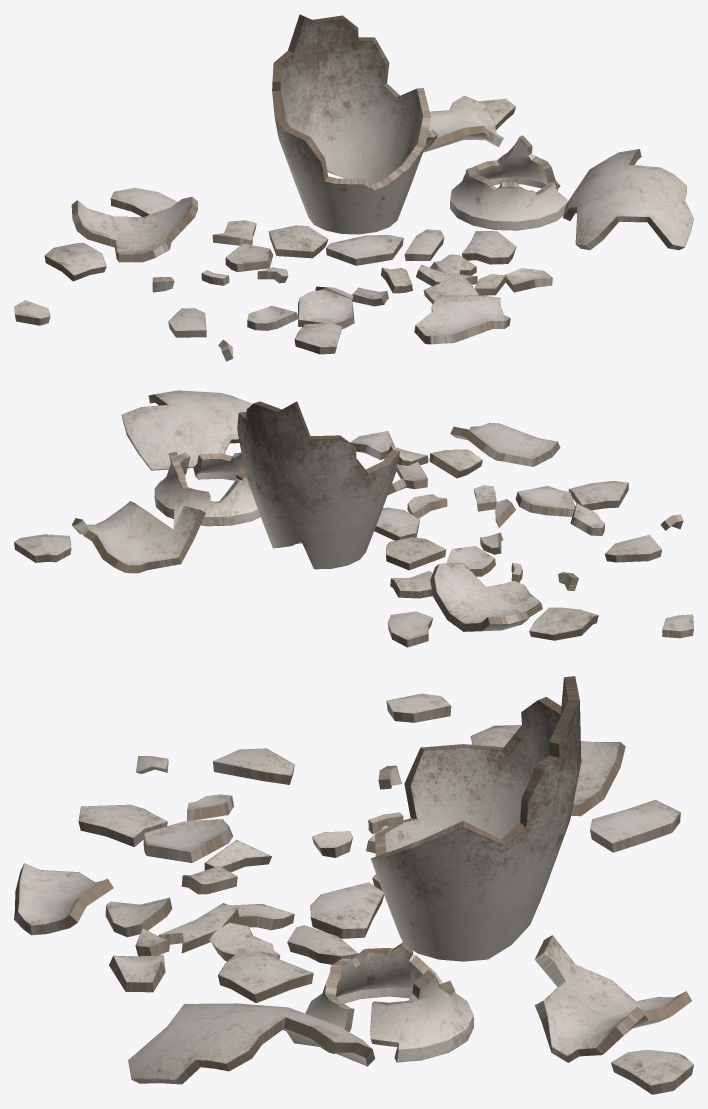
3 renders of one model, top to bottom at view 1: azimuth 30°, elevation 25°; view 2: azimuth 150°, elevation 25°; view 3: azimuth 270°, elevation 25°, orthographic. The views are drawn at different scales.
Parts seen in each view (by area): view 1: Cylinder_cell.057; view 2: Cylinder_cell.057; view 3: Cylinder_cell.057.
Part boxes in pixels (<box>): Cylinder_cell.057: <box>14,14,693,361</box>; Cylinder_cell.057: <box>14,390,693,647</box>; Cylinder_cell.057: <box>14,676,693,1094</box>.
Bounding box in the file's own units: 5.9 × 1.73 × 4.08.
Materials: 1 (1 with a texture image).
